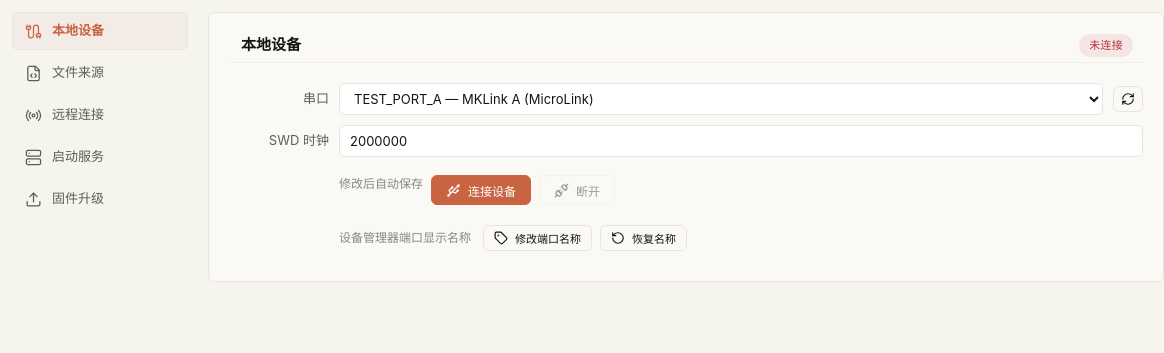
Test case: ConfigView › keeps firmware update as a separate sidebar section after Start Service
The image size is (1164, 353).
Expected: the elements with test id "config-section" read "本地设备", "文件来源", "远程连接", "启动服务", "固件升级", in this order, top-left (52, 21), bottom-right (104, 41); top-left (52, 63), bottom-right (104, 83); top-left (52, 105), bottom-right (104, 125); top-left (52, 147), bottom-right (104, 167); top-left (52, 189), bottom-right (104, 209)
Click the button with test id "config-section-serve" at (100, 157), box top-left (12, 138), bottom-right (188, 176)
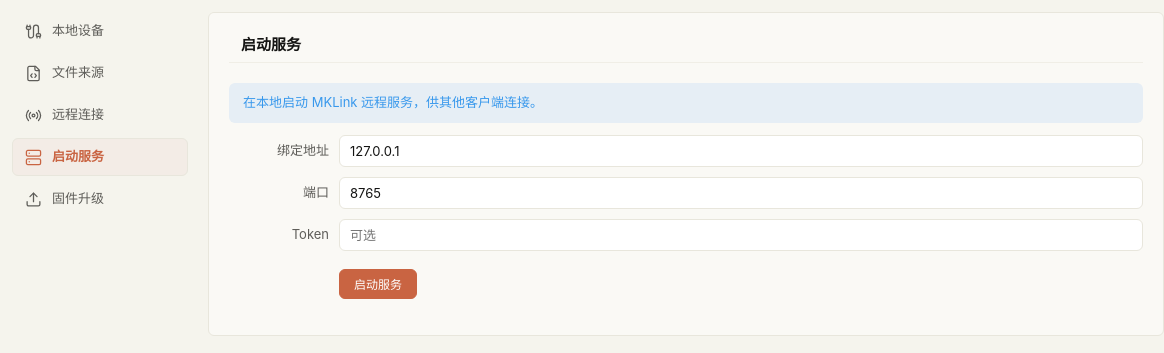
Click the button with test id "config-section-firmware" at (100, 199), box top-left (12, 180), bottom-right (188, 218)
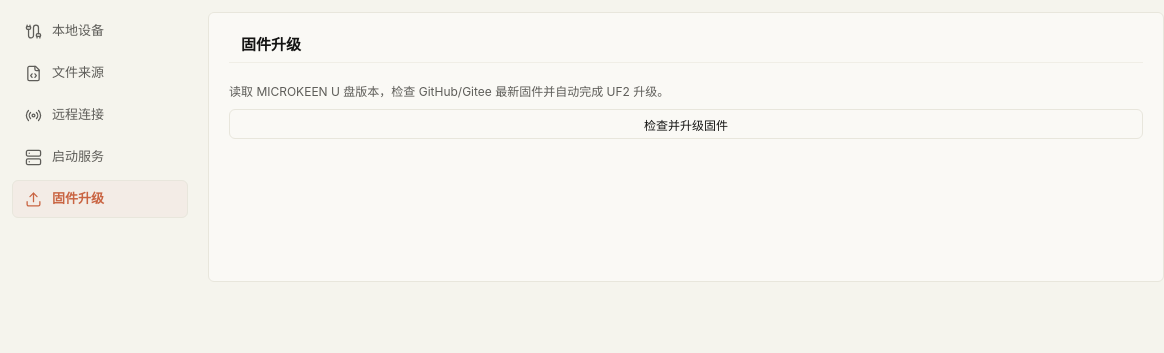
Expected: the element with test id "firmware-upgrade-panel" shows "固件升级", top-left (241, 35), bottom-right (301, 54)
